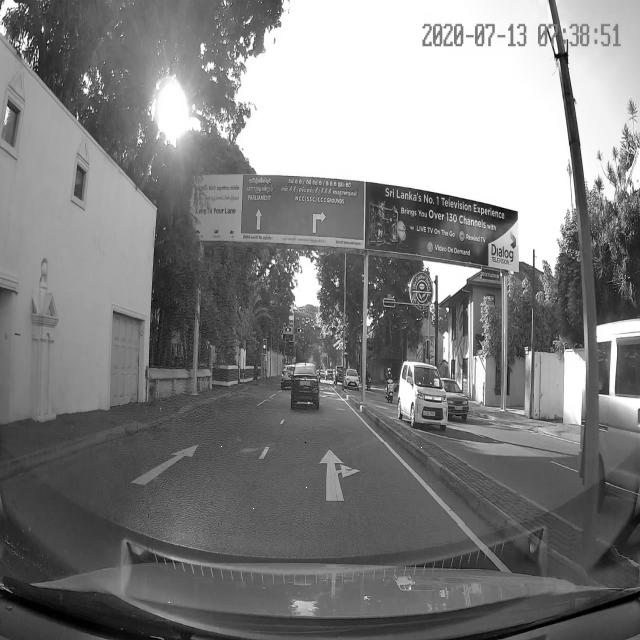forward_right: (222, 443, 465, 524), (219, 454, 467, 524), (219, 458, 464, 521)
